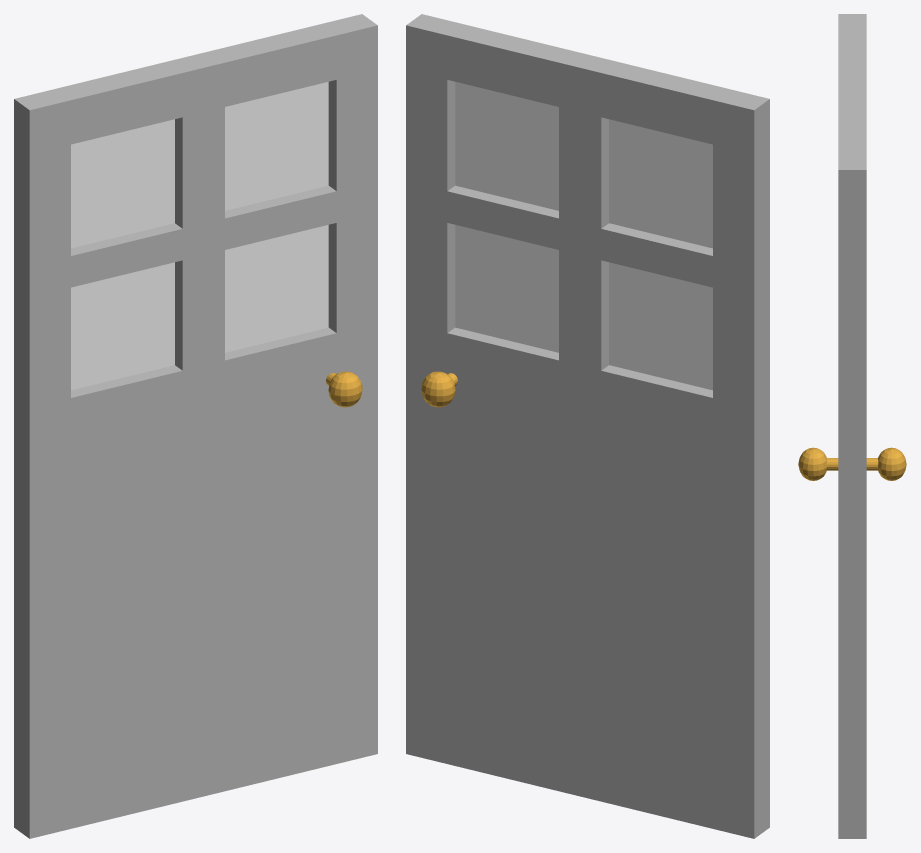
The model's file is doors.glb.
3 views of the same model, side by side, from view 1: azimuth 30°, elevation 25°; view 2: azimuth 150°, elevation 25°; view 3: azimuth 270°, elevation 25° (orthographic). The views are drawn at different scales.
Parts seen in each view (by area): view 1: Cube, Plane, Sphere; view 2: Cube, Plane, Sphere; view 3: Cube, Sphere, Sphere.001.
Boxes of the visible parts, <box> form: Cube: <box>14,14,377,838</box>; Plane: <box>71,82,328,390</box>; Sphere: <box>328,371,362,407</box>; Cube: <box>406,14,769,838</box>; Plane: <box>455,82,712,390</box>; Sphere: <box>421,371,455,407</box>; Cube: <box>838,14,866,838</box>; Sphere: <box>798,447,906,480</box>; Sphere.001: <box>826,458,878,470</box>.
Size of the model in its own units: 1 by 2 by 0.2936.
